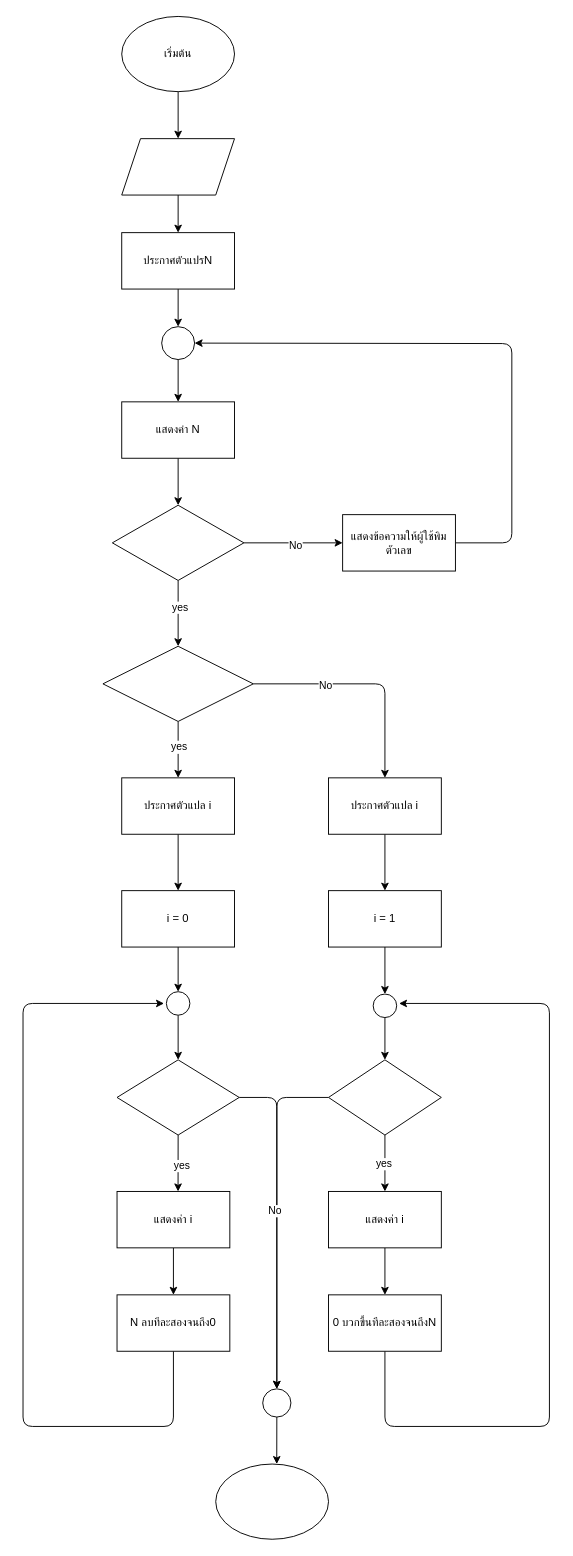
This 573x1556 diagram has some shape labels left out. Each missing label, with the centre of its shape:
i <=N ใช่หรือไหม: (x=384, y=1097)
i >=0 ใช่หรือไม่: (x=177, y=1097)
N >= 0ใช่หรือไม่: (x=177, y=542)
N หารสองลงตัว: (x=177, y=683)
ประกาศตัวแปร N=0: (x=178, y=166)
สิ้นสุด: (x=272, y=1501)
